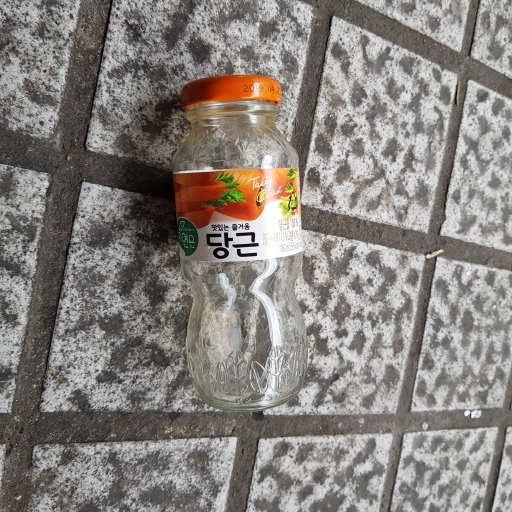Glass_4: (163, 70, 311, 411)
